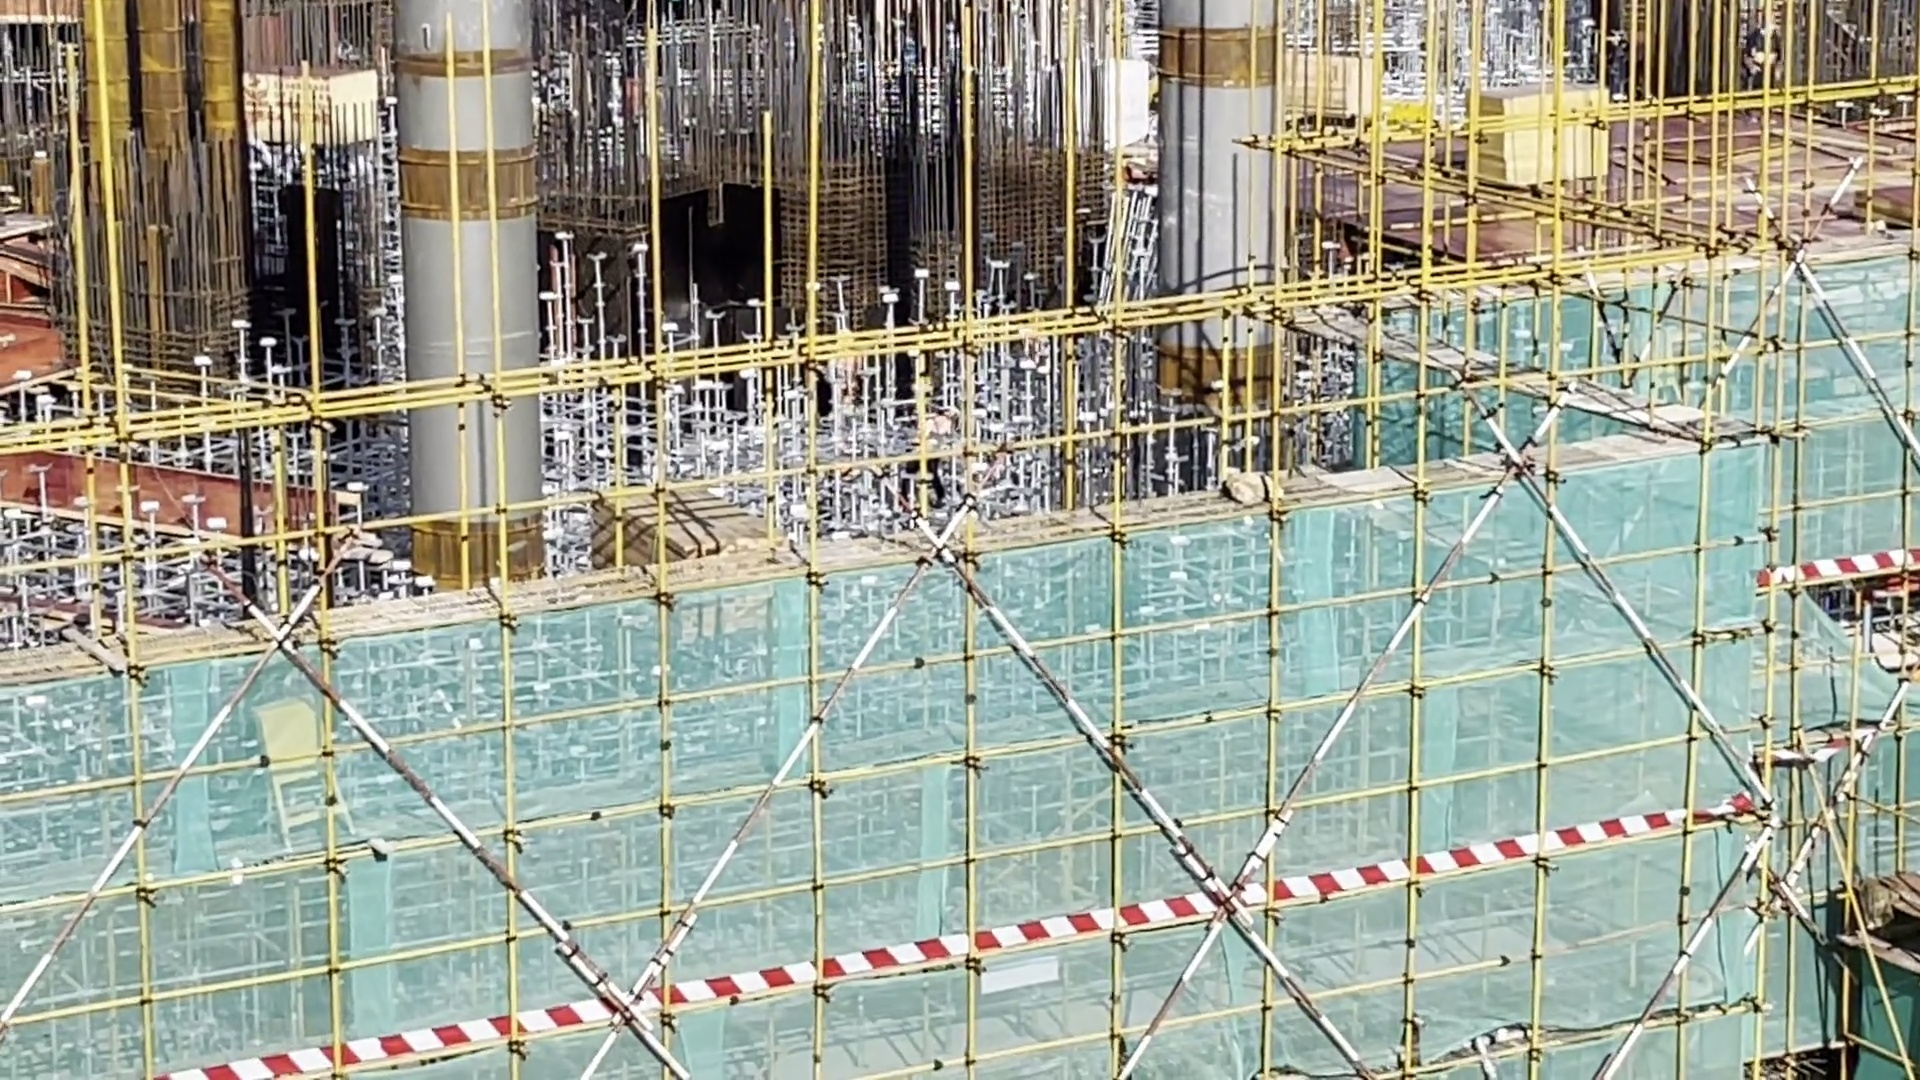ebox: (253, 701, 383, 857)
person: (1728, 17, 1779, 100)
